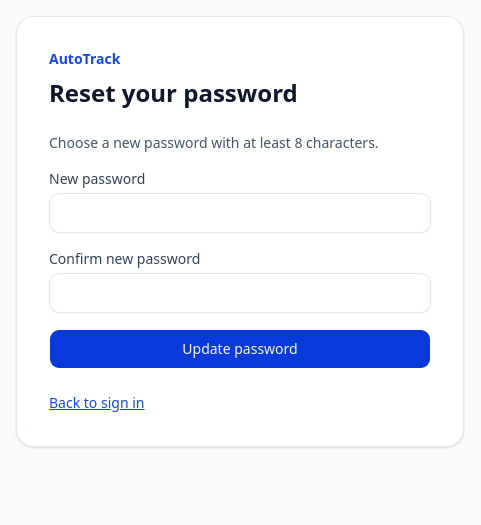
it: password update › validates matching passwords and minimum length before updating
The image size is (481, 525).
Step 1. Type "short" into the password field labelled "New password" → (240, 213), box left=49, top=193, right=431, bottom=233
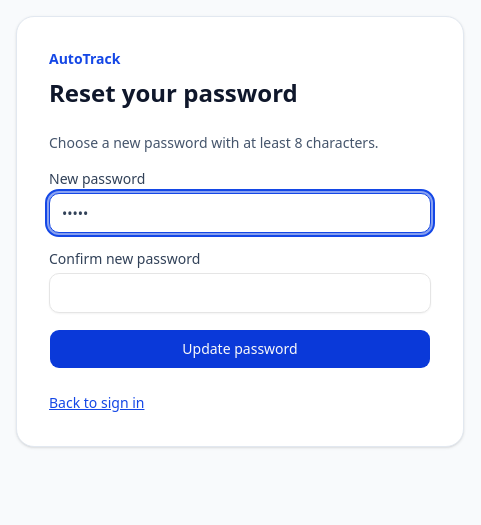
Step 2. Type "other" into the password field labelled "Confirm new password" → (240, 293), box left=49, top=273, right=431, bottom=313
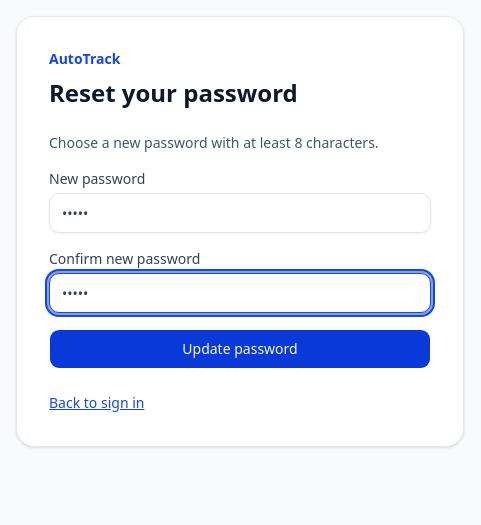
Step 3. Submit the form, box left=49, top=133, right=431, bottom=369
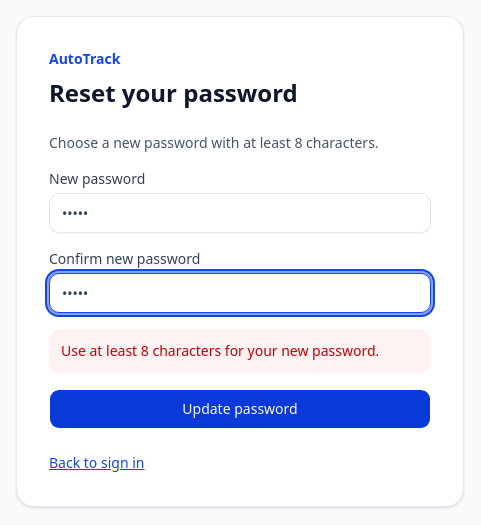
Expected: the message shows "at least 8", left=61, top=341, right=379, bottom=360
Step 4. Type "new-password-123" into the password field labelled "New password" → (240, 213), box left=49, top=193, right=431, bottom=233
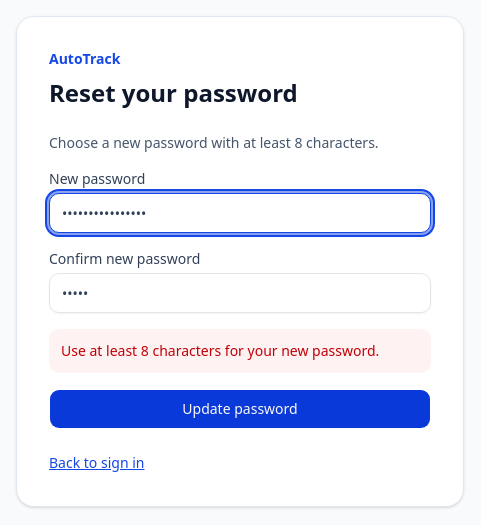
Step 5. Submit the form, box left=49, top=133, right=431, bottom=429
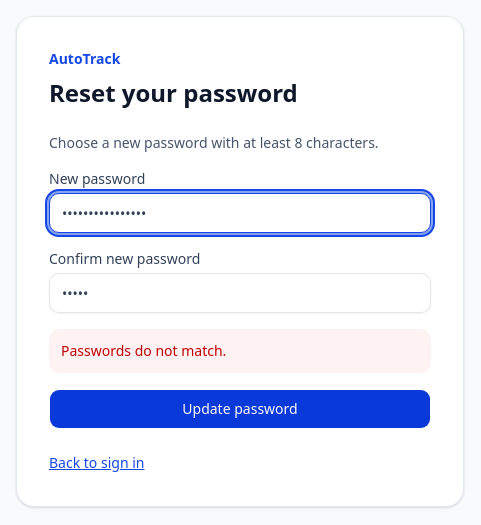
Expected: the message shows "do not match", left=61, top=341, right=226, bottom=360
